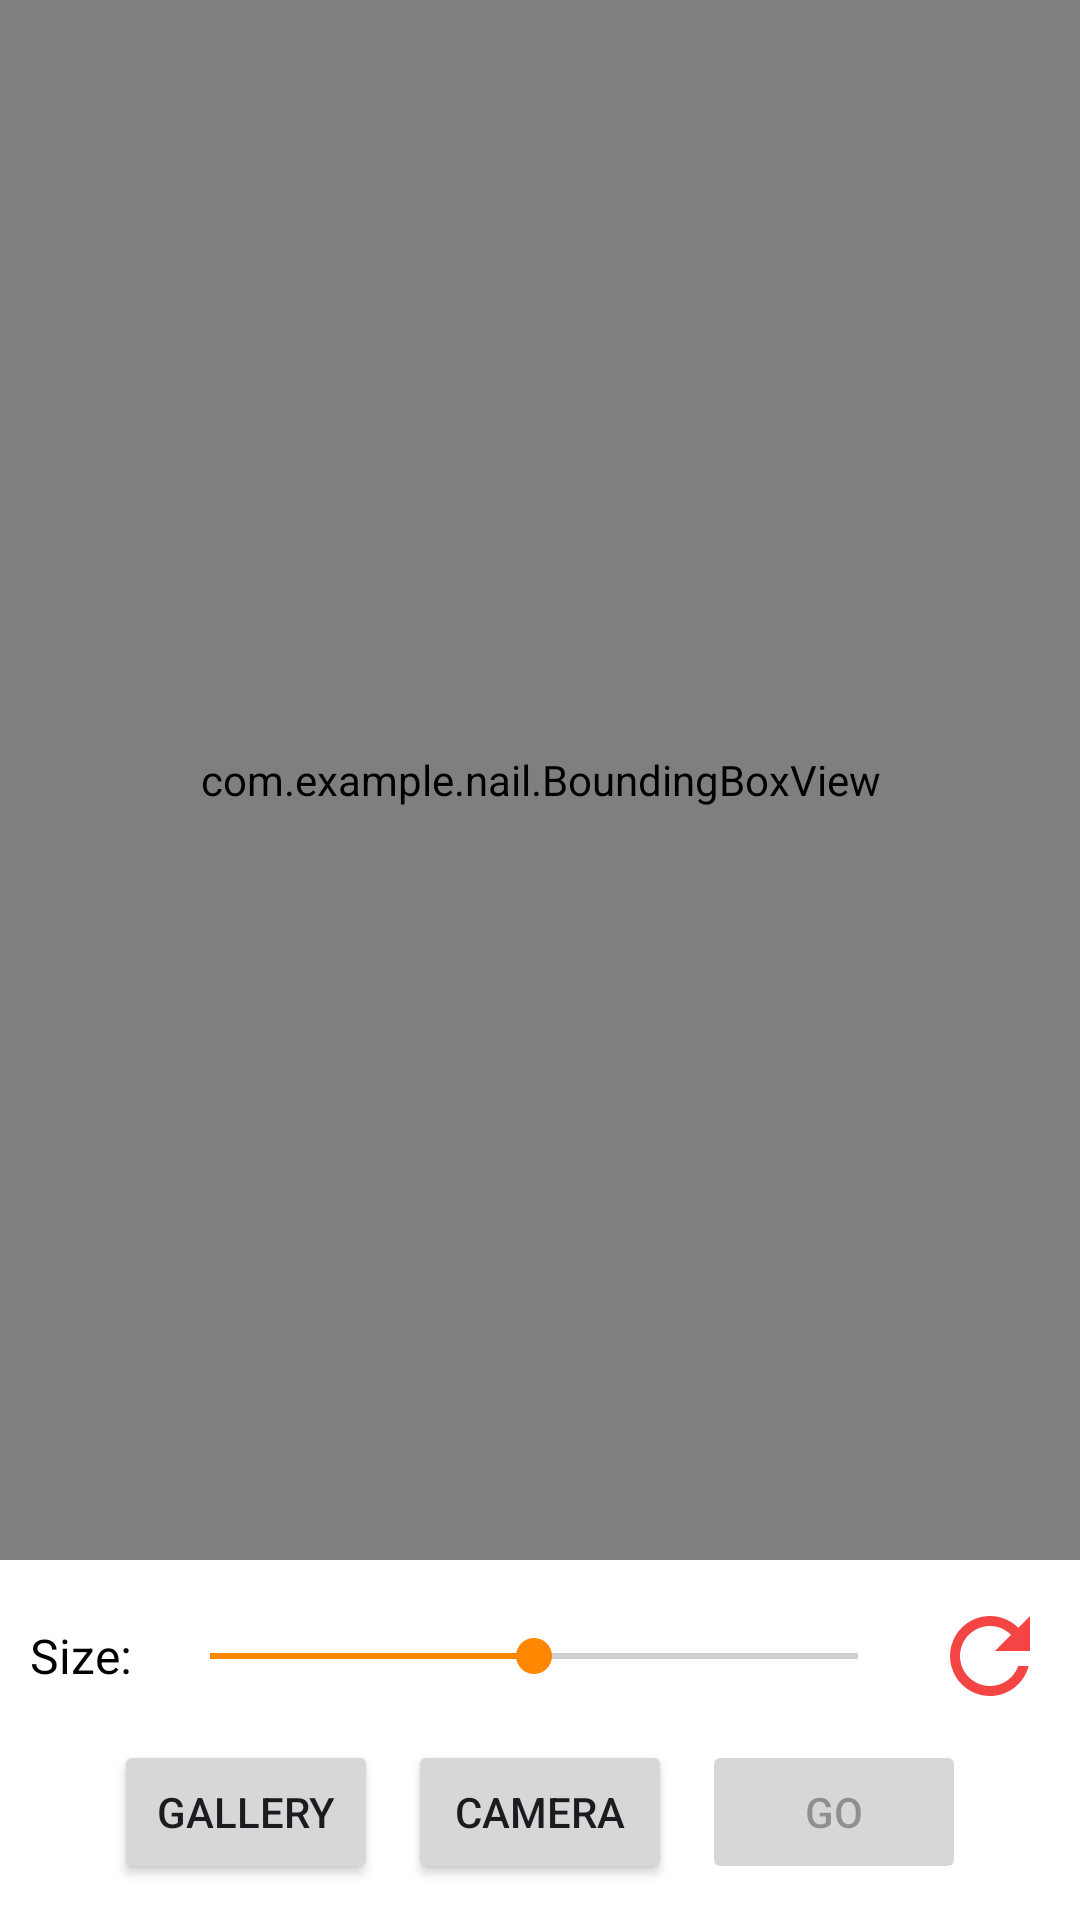

Icon bounding boxes for this 1080 × 1920 phone screenshot, format {"x1": x1, "y1": y1, "x2": x2, "y2": y2}:
Reset: {"x1": 950, "y1": 1616, "x2": 1030, "y2": 1696}
